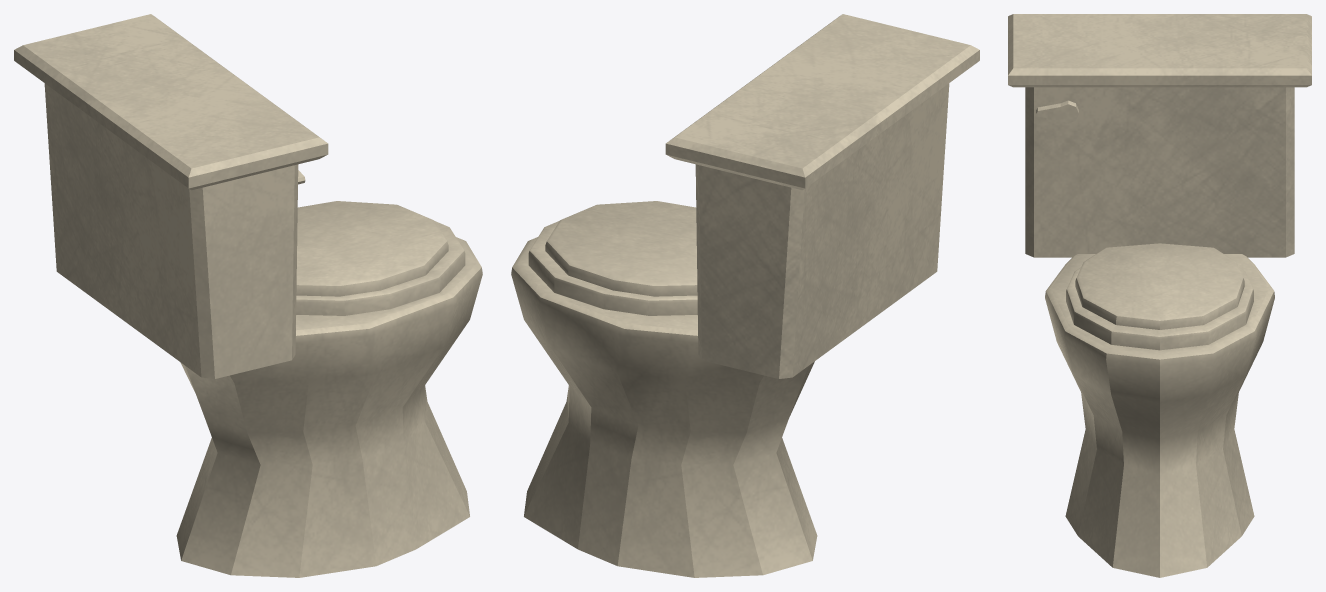
The picture shows the model from 3 angles, left to right: view 1: azimuth 30°, elevation 25°; view 2: azimuth 150°, elevation 25°; view 3: azimuth 270°, elevation 25°; orthographic projection. The views are drawn at different scales.
Visible parts, largest first — view 1: pCylinder3; view 2: pCylinder3; view 3: pCylinder3.
Boxes of the visible parts, bbox=[...] form: pCylinder3: bbox=[14, 14, 482, 577]; pCylinder3: bbox=[511, 14, 979, 577]; pCylinder3: bbox=[1008, 14, 1311, 577].
Size of the model in its own units: 4.84 by 5.96 by 4.
